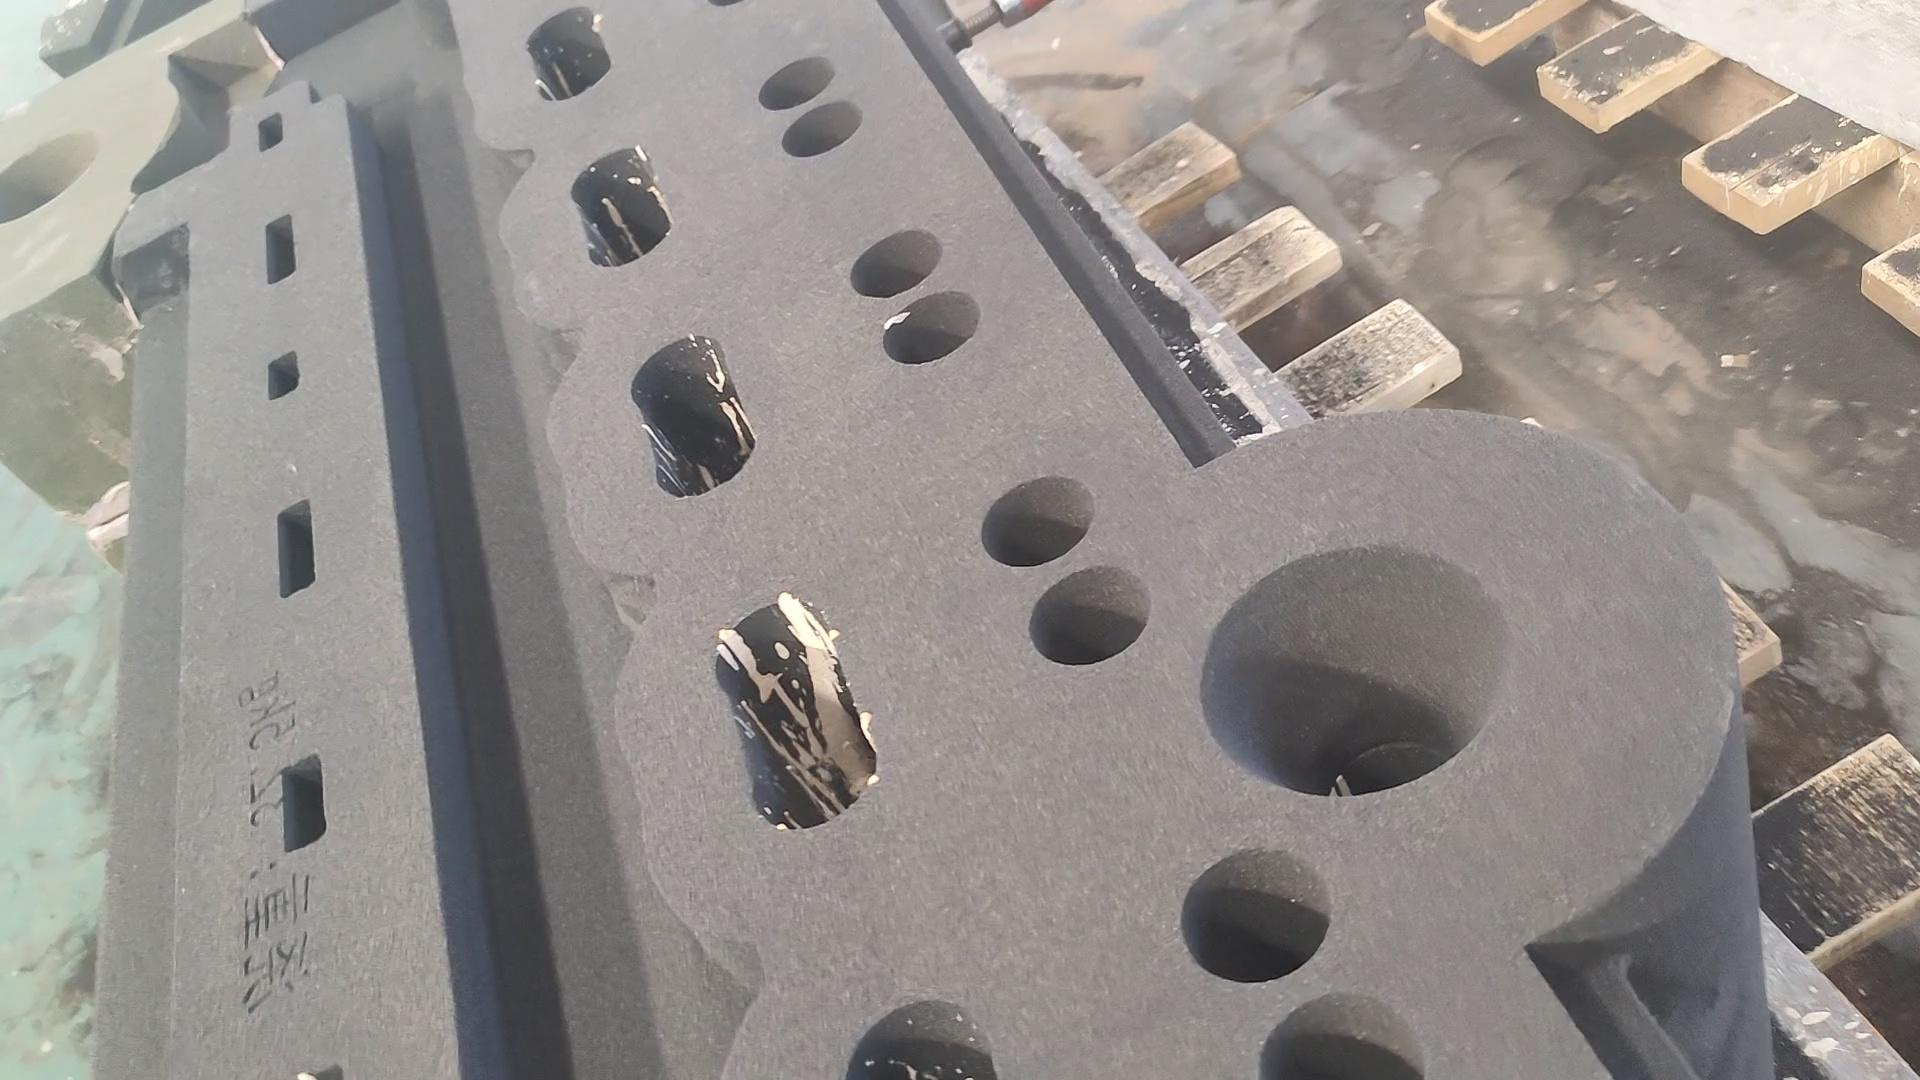pouring hole: (1197, 545, 1506, 796), (1, 124, 98, 223)
